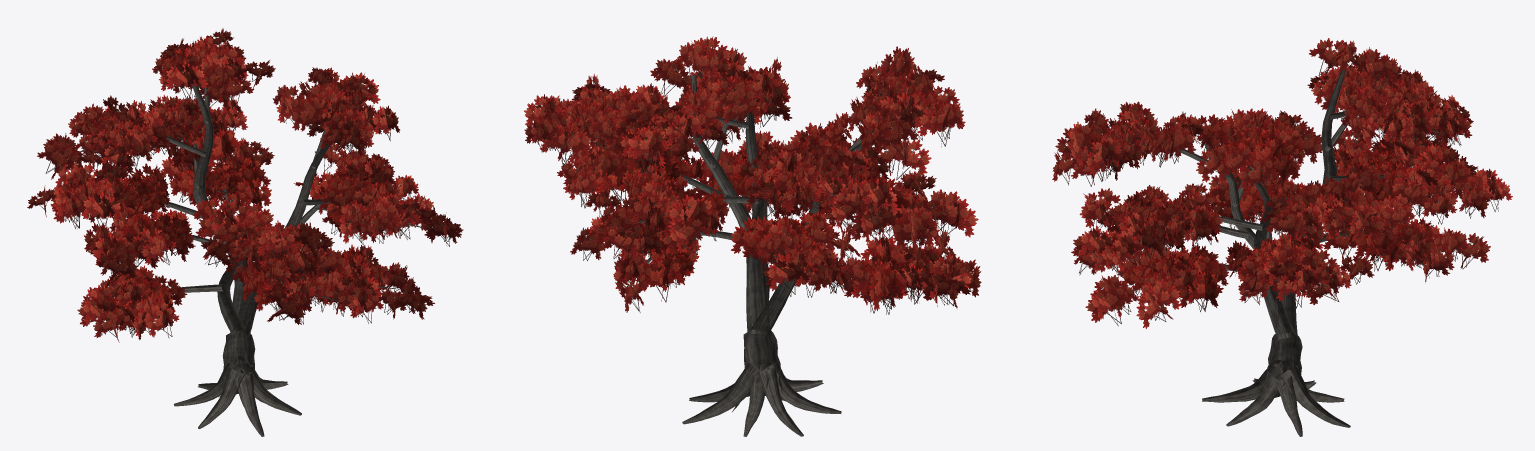
The model's file is japanese-maple-tree.glb.
3 renders of one model, left to right at view 1: azimuth 30°, elevation 25°; view 2: azimuth 150°, elevation 25°; view 3: azimuth 270°, elevation 25°, orthographic. The views are drawn at different scales.
Parts seen in each view (by area): view 1: Foliage_Outer_Sunlit, Foliage_Mid_Canopy, Tree_Trunk_Branches; view 2: Foliage_Outer_Sunlit, Foliage_Mid_Canopy, Tree_Trunk_Branches; view 3: Foliage_Outer_Sunlit, Foliage_Mid_Canopy, Tree_Trunk_Branches.
Boxes of the visible parts, <box> form: Foliage_Outer_Sunlit: <box>27,28,463,342</box>; Foliage_Mid_Canopy: <box>108,127,381,329</box>; Tree_Trunk_Branches: <box>80,82,424,436</box>; Foliage_Outer_Sunlit: <box>524,36,981,312</box>; Foliage_Mid_Canopy: <box>596,106,934,314</box>; Tree_Trunk_Branches: <box>629,75,929,436</box>; Foliage_Outer_Sunlit: <box>1052,38,1512,328</box>; Foliage_Mid_Canopy: <box>1122,114,1442,311</box>; Tree_Trunk_Branches: <box>1131,69,1469,436</box>.
Bounding box in the file's own units: 4.75 × 4.28 × 5.03.
4 materials, 4 textured.
